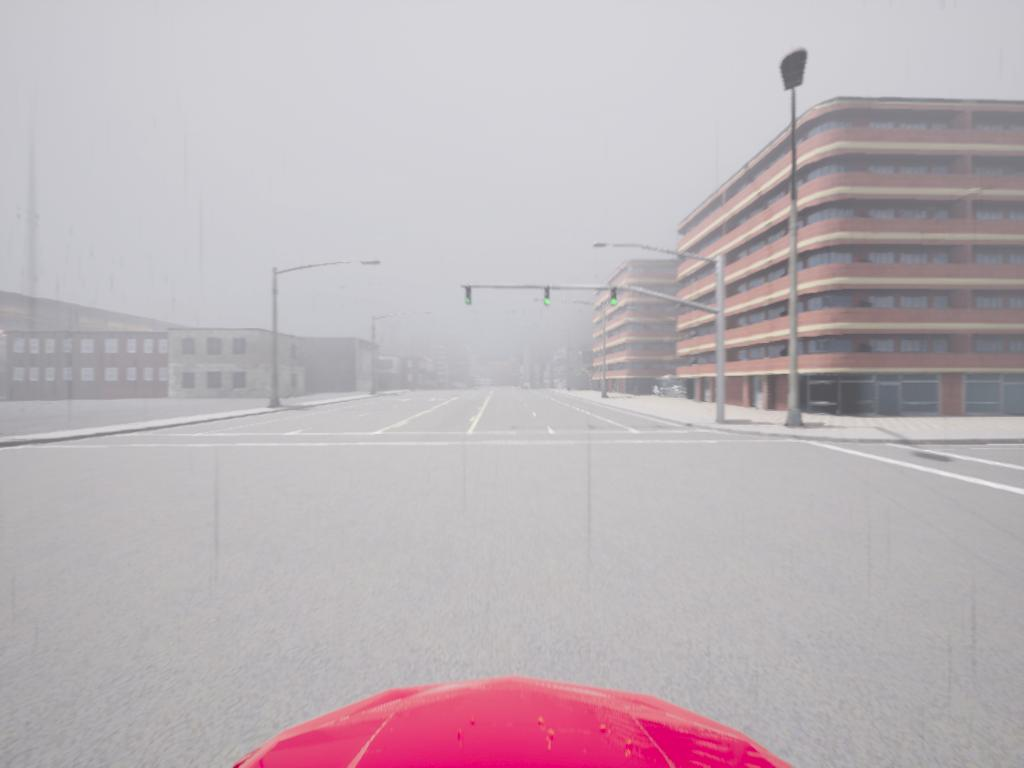traffic_light: (465, 286, 475, 308), (543, 289, 554, 307), (612, 287, 618, 307)
